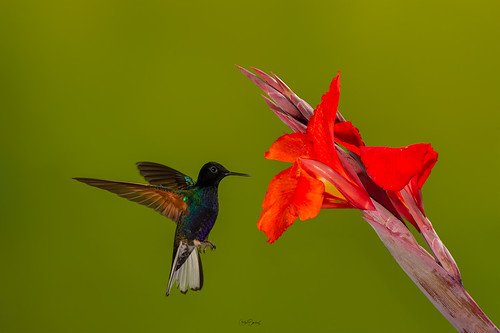animal: (70, 145, 253, 318)
flowers: (253, 77, 462, 314)
